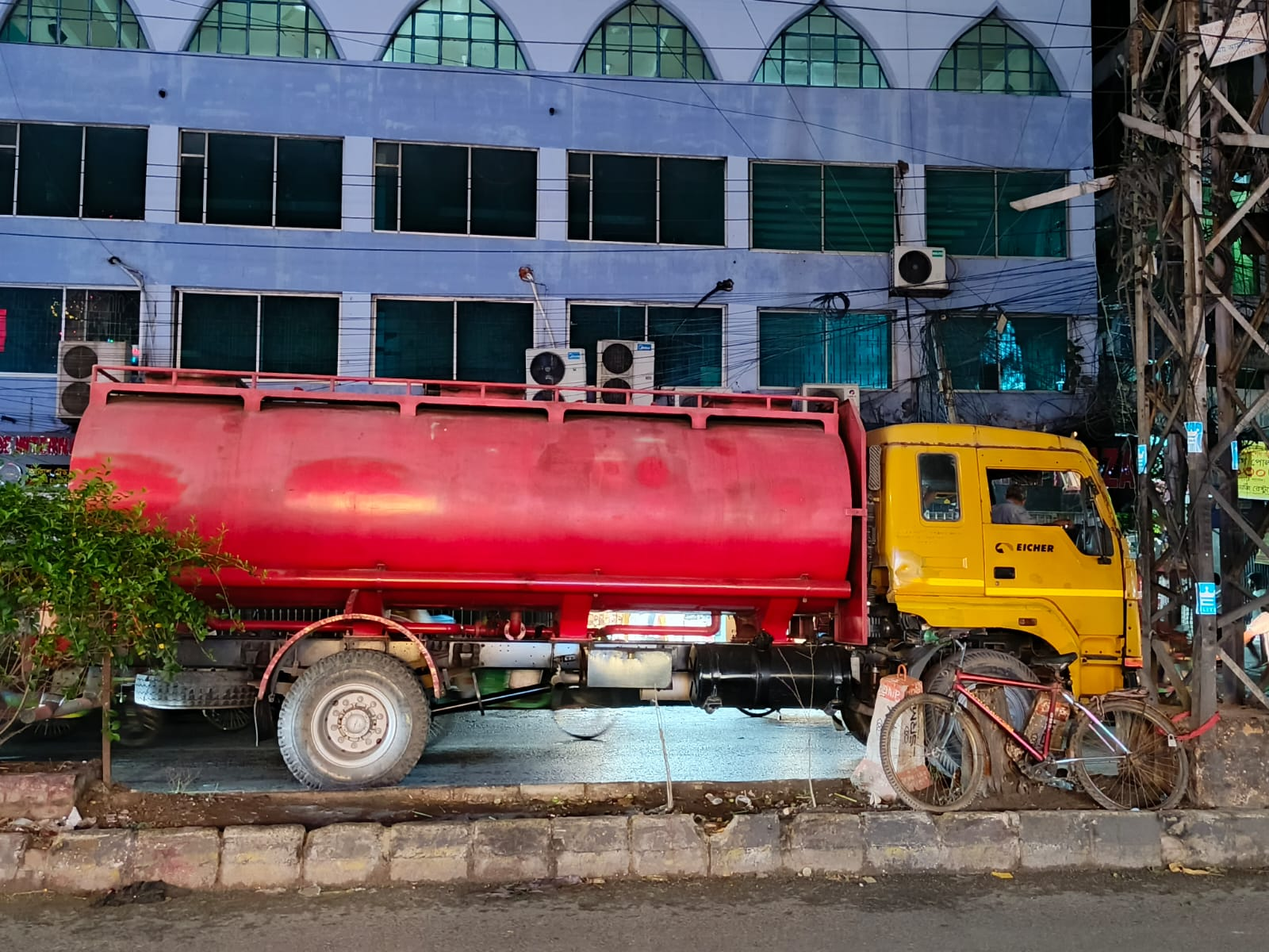Bikes: (861, 611, 1229, 868)
Truck: (36, 238, 1269, 870)
